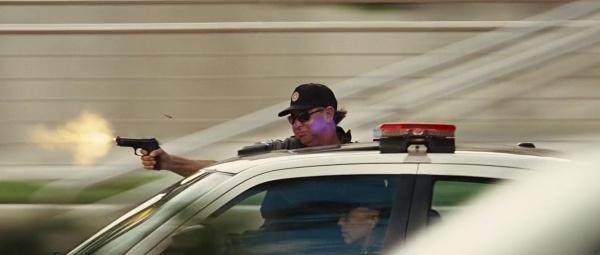Gun: (115, 136, 163, 169)
